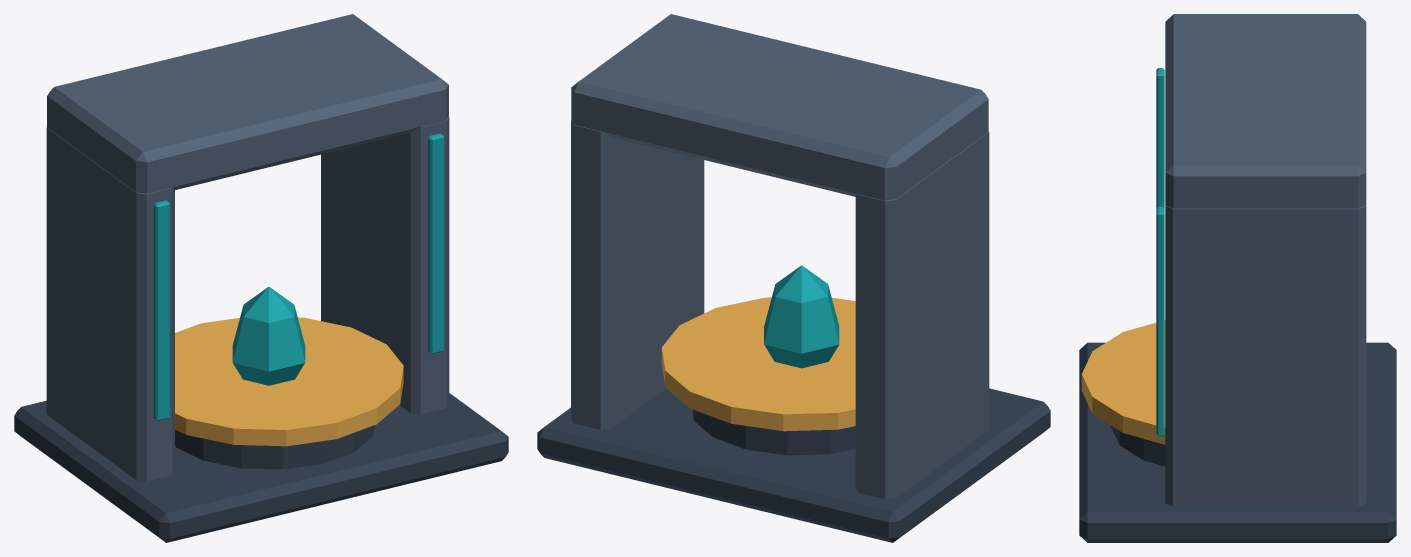
The model's file is 05_Specimen_Scanner.glb.
3 renders of one model, left to right at view 1: azimuth 30°, elevation 25°; view 2: azimuth 150°, elevation 25°; view 3: azimuth 270°, elevation 25°, orthographic. The views are drawn at different scales.
Visible parts, largest first — view 1: 05_Specimen_Scanner__Body; view 2: 05_Specimen_Scanner__Body; view 3: 05_Specimen_Scanner__Body.
Part boxes in pixels (box(x1,y1,x2,y2)): 05_Specimen_Scanner__Body: box(14, 14, 508, 542); 05_Specimen_Scanner__Body: box(537, 14, 1050, 542); 05_Specimen_Scanner__Body: box(1079, 14, 1396, 542).
Size of the model in its own units: 2.7 by 2.63 by 2.05.
Materials: 1 (1 with a texture image).
